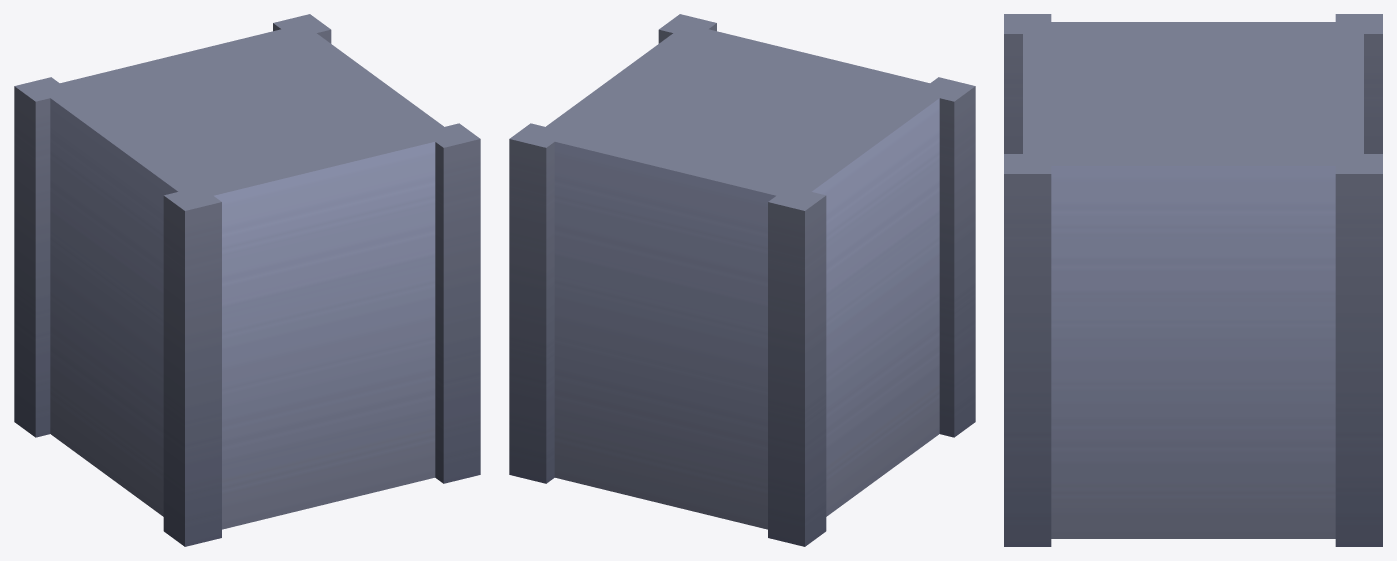
File: tower-square-mid.fbx
The picture shows the model from 3 angles, left to right: view 1: azimuth 30°, elevation 25°; view 2: azimuth 150°, elevation 25°; view 3: azimuth 270°, elevation 25°; orthographic projection. The views are drawn at different scales.
Parts seen in each view (by area): view 1: tower-square-mid; view 2: tower-square-mid; view 3: tower-square-mid.
Part boxes in pixels (x1,y1,x2,y2): tower-square-mid: [14, 14, 480, 546]; tower-square-mid: [509, 14, 975, 546]; tower-square-mid: [1004, 14, 1382, 546].
Bounding box in the file's own units: 0.93 × 0.93 × 1.01.
